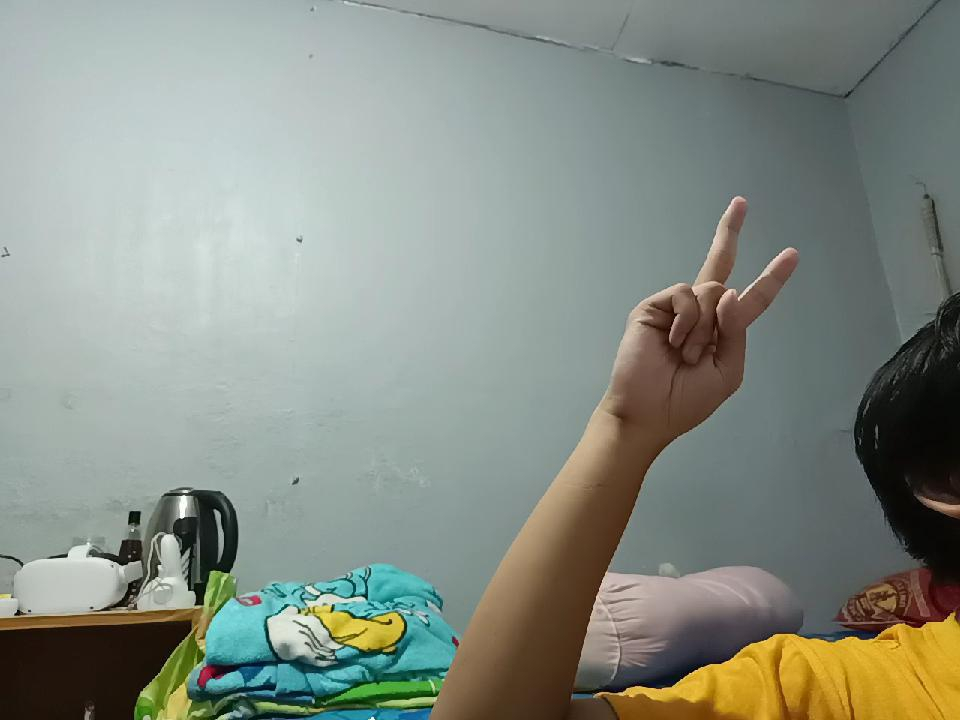scissors: (590, 178, 816, 444)
